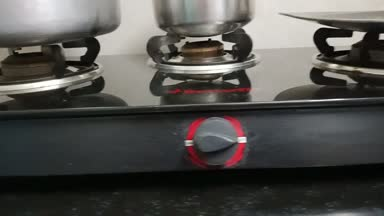flame_gas_off: (146, 26, 271, 165)
